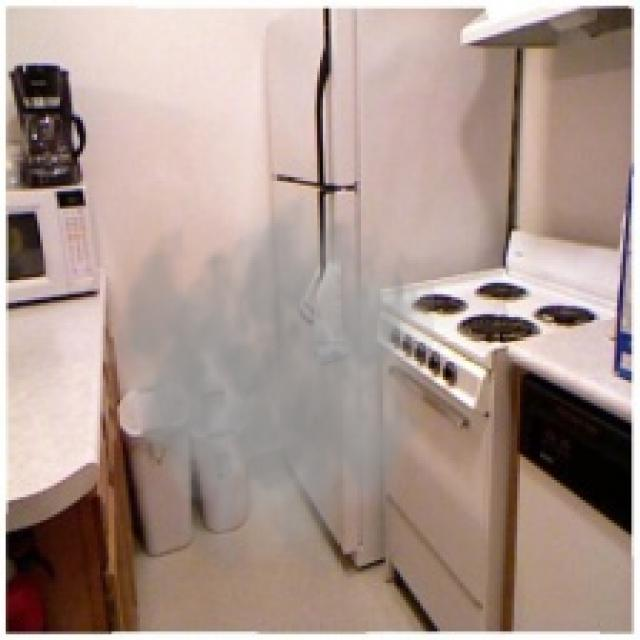smoke: (89, 189, 434, 580)
